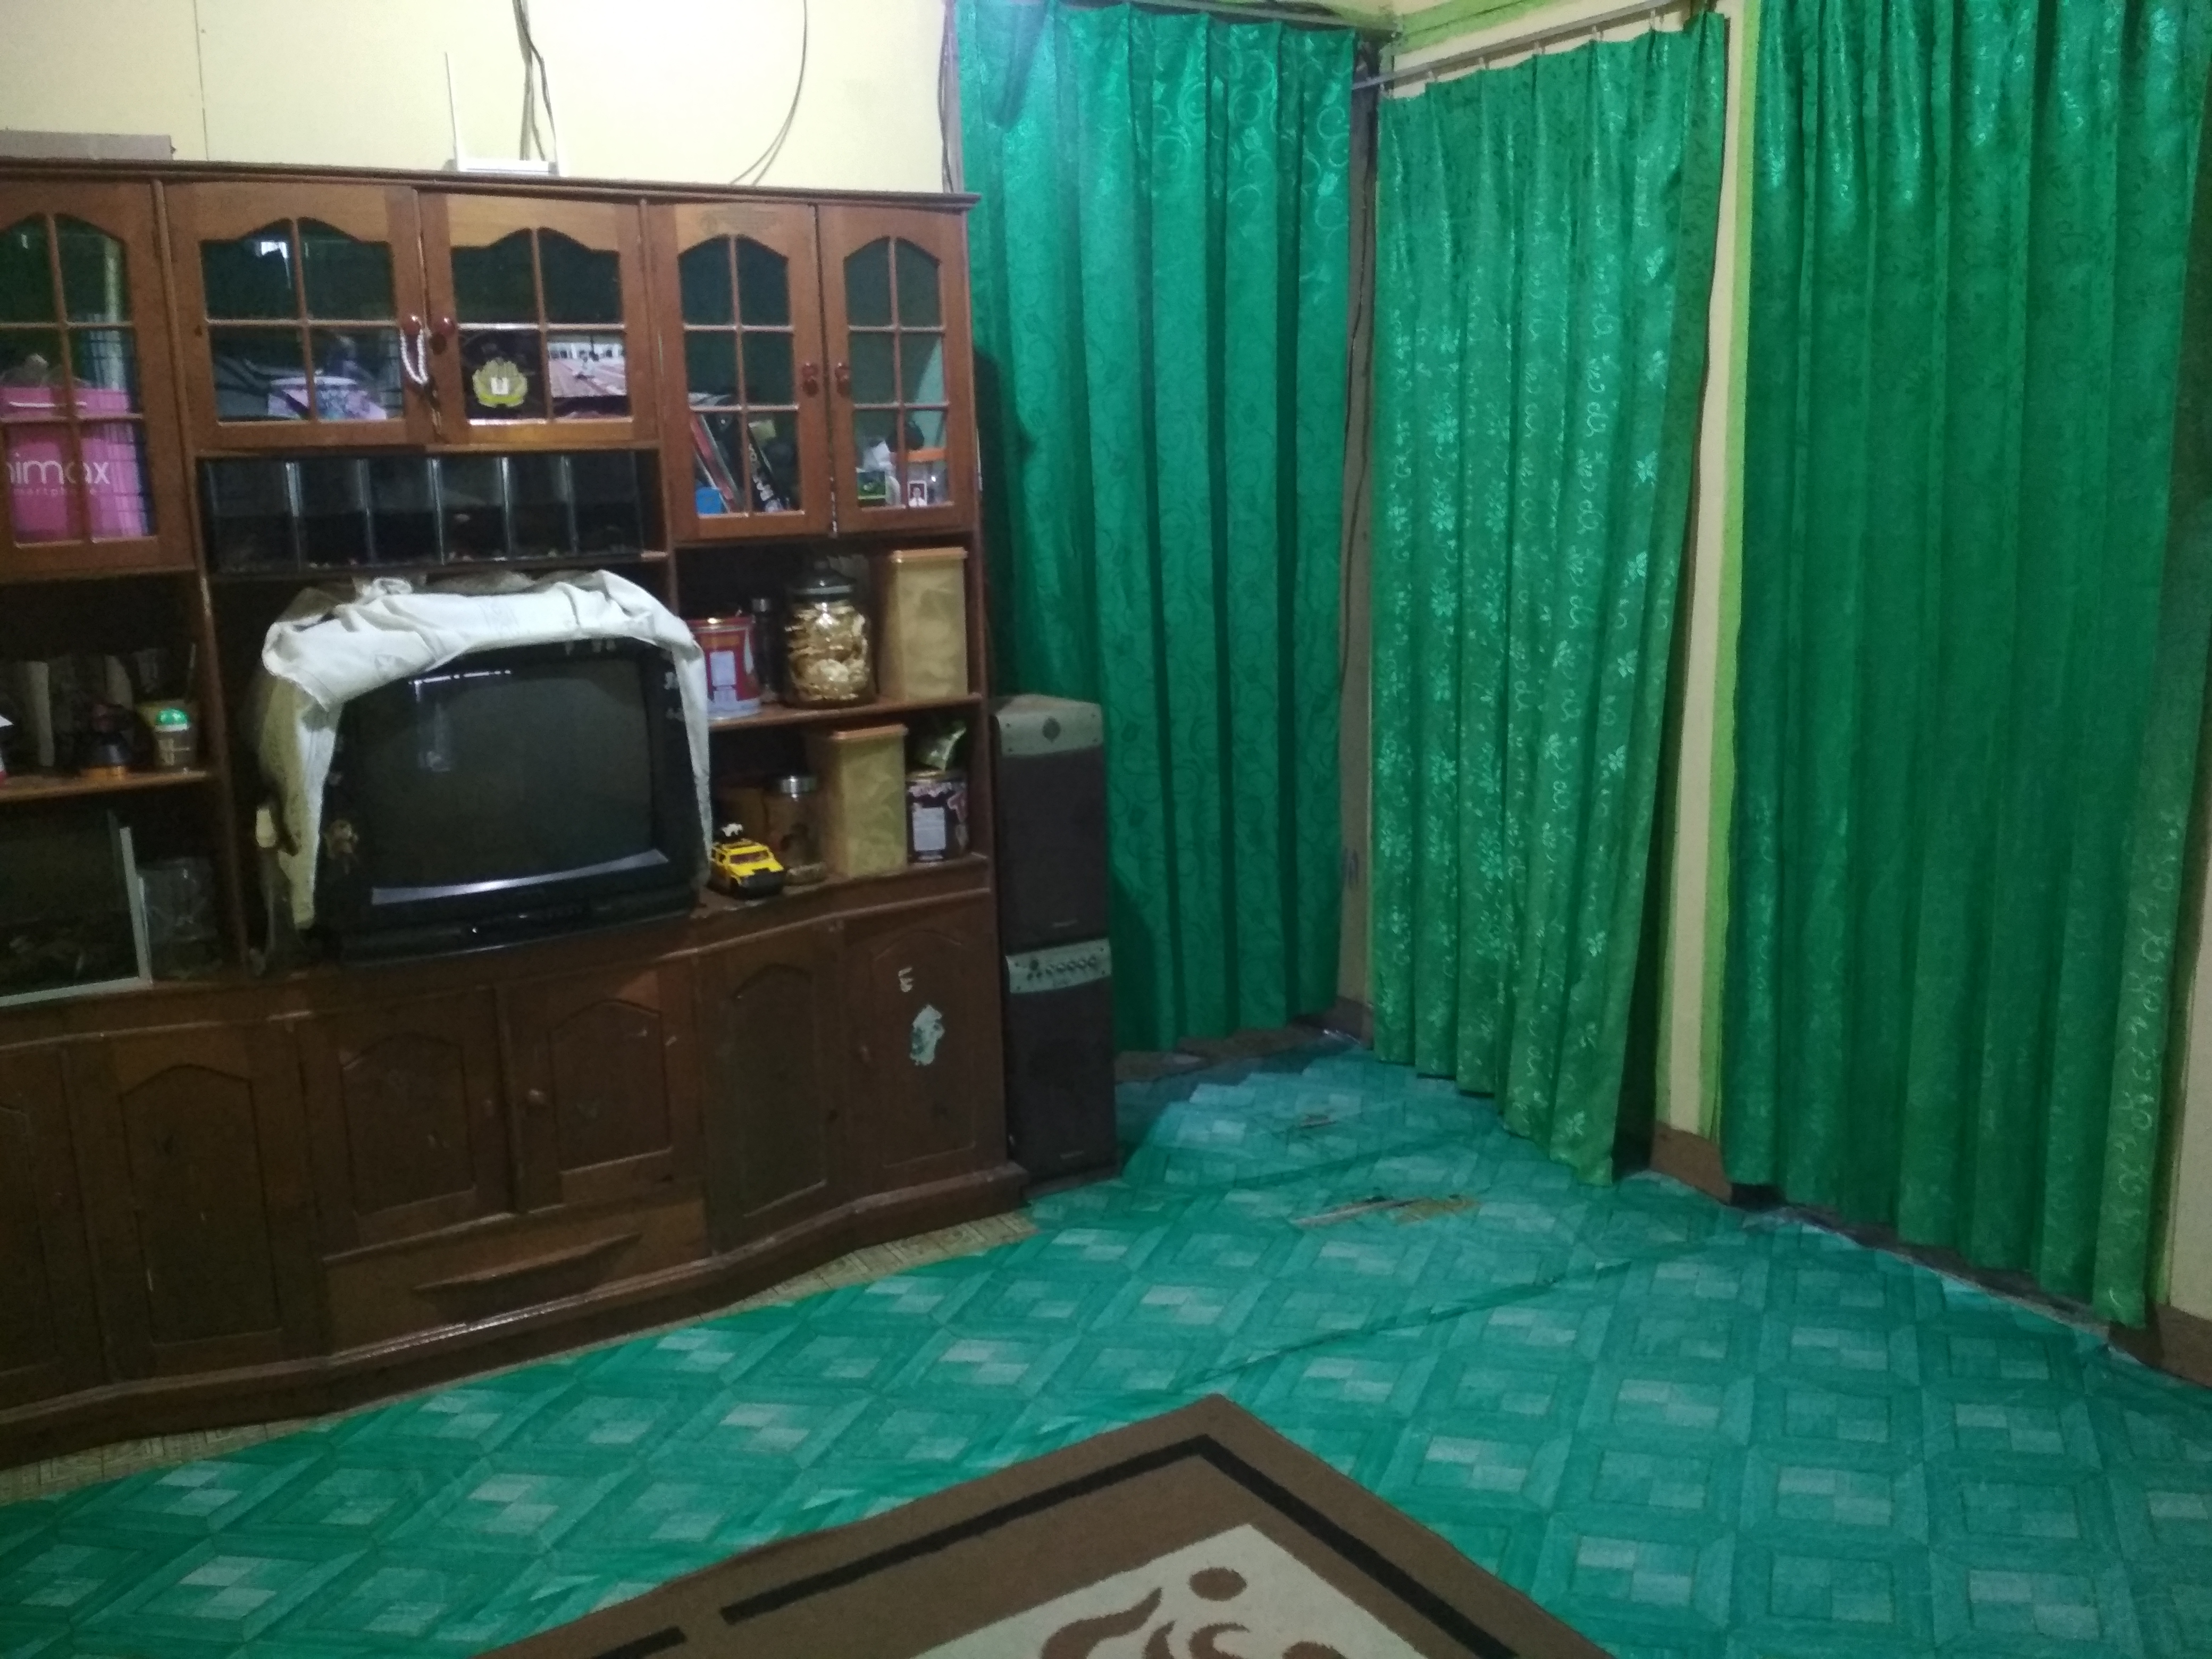tv: (273, 641, 721, 945)
